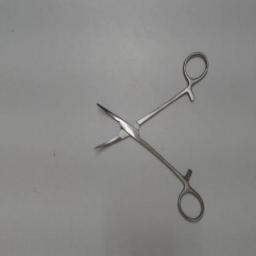Crile Artery Forceps: (90, 47, 212, 231)
